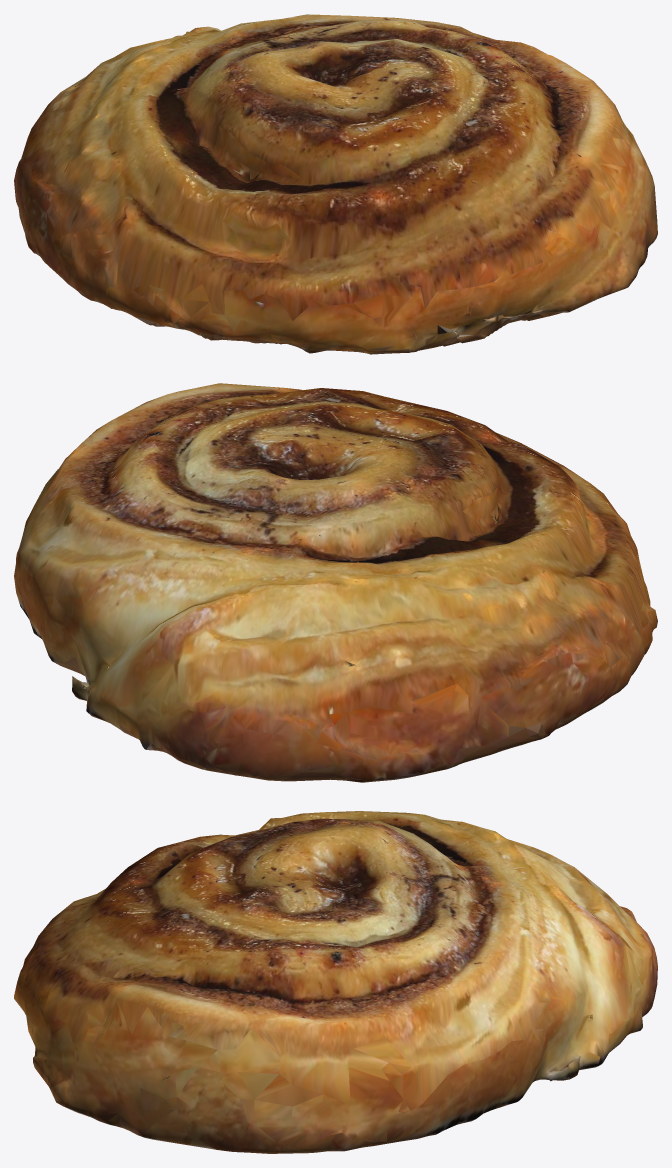
The model's file is cinnamon_4398.obj.
3 views of the same model, one above another, from view 1: azimuth 30°, elevation 25°; view 2: azimuth 150°, elevation 25°; view 3: azimuth 270°, elevation 25° (orthographic). The views are drawn at different scales.
Bounding box in the file's own units: 110 × 34.09 × 115.
1 material, 1 textured.
